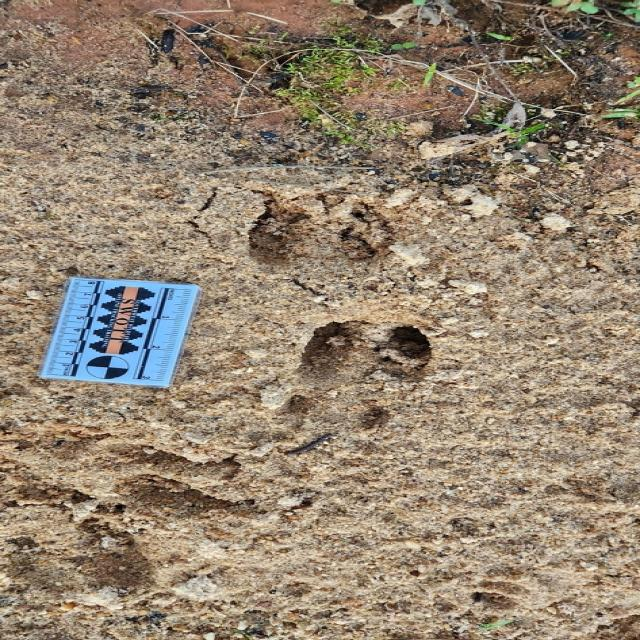deer: (298, 324, 430, 424), (246, 208, 392, 270)
